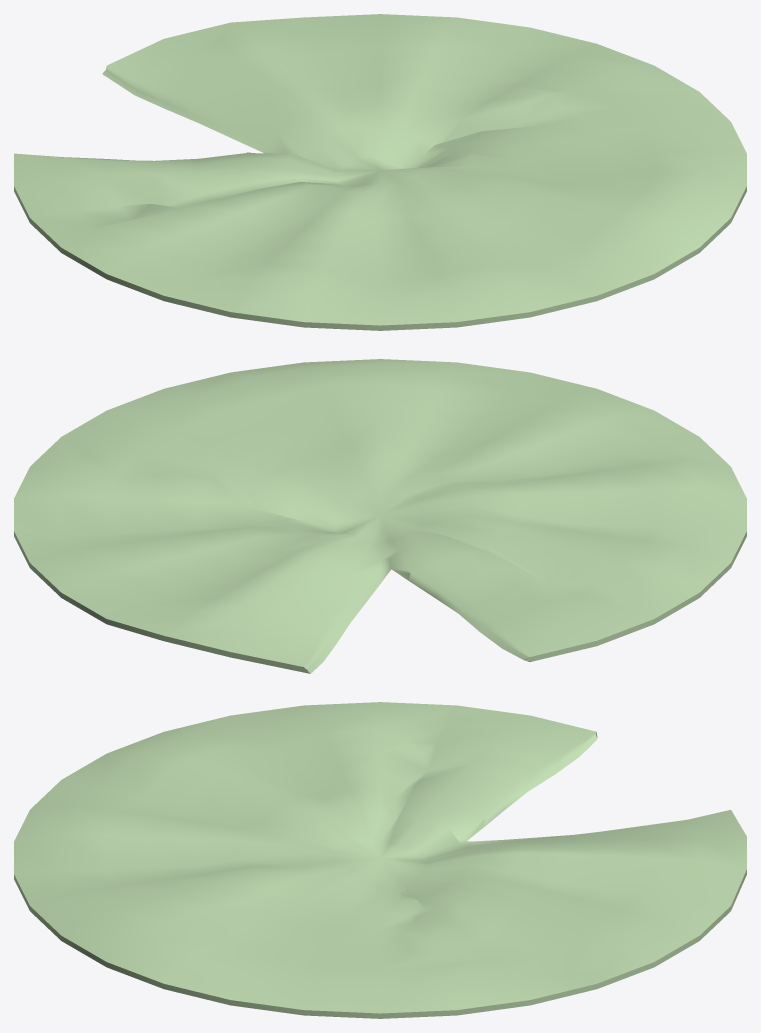
The model's file is lily_pad_brighter.fbx.
3 renders of one model, top to bottom at view 1: azimuth 30°, elevation 25°; view 2: azimuth 150°, elevation 25°; view 3: azimuth 270°, elevation 25°, orthographic.
Visible parts, largest first — view 1: pCylinder1; view 2: pCylinder1; view 3: pCylinder1.
Part boxes in pixels (x1,y1,x2,y2): pCylinder1: (14,14,746,330); pCylinder1: (14,359,746,673); pCylinder1: (14,702,746,1018).
Bounding box in the file's own units: 69.12 × 4.04 × 68.74.
